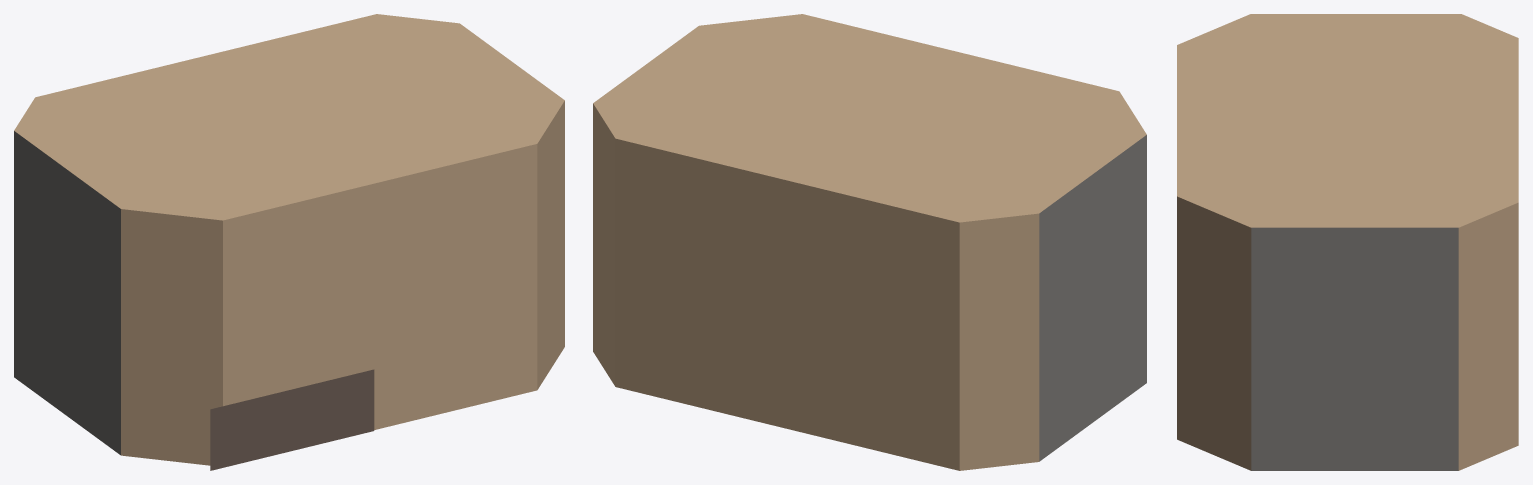
The model's file is loin-etape-1.glb.
3 renders of one model, left to right at view 1: azimuth 30°, elevation 25°; view 2: azimuth 150°, elevation 25°; view 3: azimuth 270°, elevation 25°, orthographic. The views are drawn at different scales.
Parts seen in each view (by area): view 1: loin; view 2: loin; view 3: loin.
Part boxes in pixels (left/top/right/bottom): loin: left=14, top=14, right=564, bottom=470; loin: left=593, top=14, right=1146, bottom=470; loin: left=1177, top=14, right=1518, bottom=470.
Size of the model in its own units: 0.9903 by 0.5252 by 0.6717.
